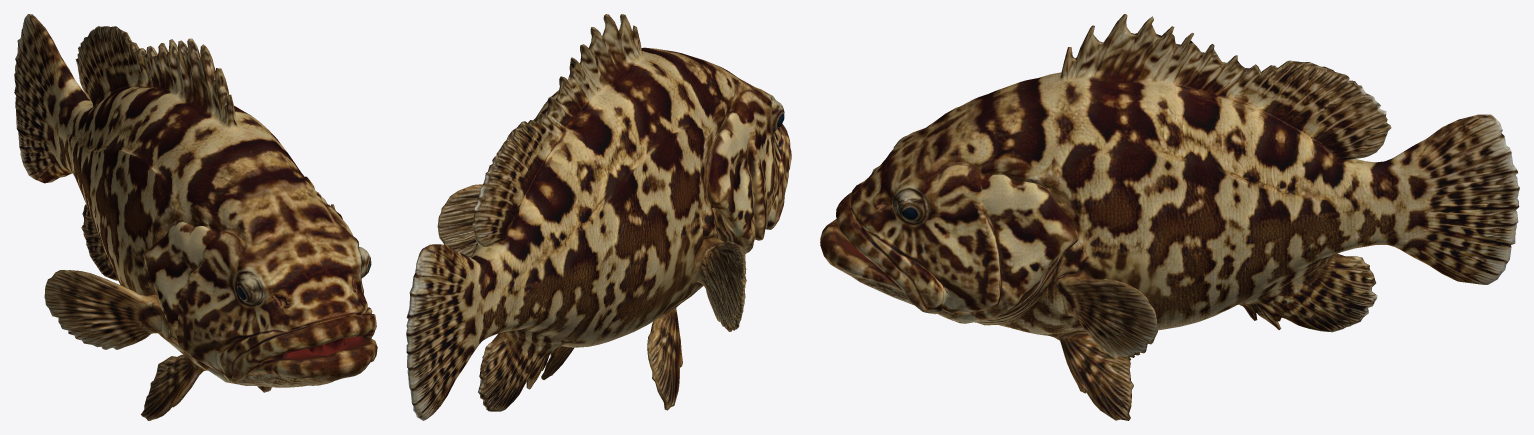
File: grouper.glb
3 views of the same model, side by side, from view 1: azimuth 30°, elevation 25°; view 2: azimuth 150°, elevation 25°; view 3: azimuth 270°, elevation 25° (orthographic). The views are drawn at different scales.
Visible parts, largest first — view 1: tripo_node_937e3ca0-0546-422b-a025-6f7996281291; view 2: tripo_node_937e3ca0-0546-422b-a025-6f7996281291; view 3: tripo_node_937e3ca0-0546-422b-a025-6f7996281291.
Boxes of the visible parts, <box> form: tripo_node_937e3ca0-0546-422b-a025-6f7996281291: <box>14,14,377,420</box>; tripo_node_937e3ca0-0546-422b-a025-6f7996281291: <box>406,14,791,420</box>; tripo_node_937e3ca0-0546-422b-a025-6f7996281291: <box>820,14,1519,420</box>.
Size of the model in its own units: 0.5014 by 0.5952 by 1.
1 material, 1 textured.
